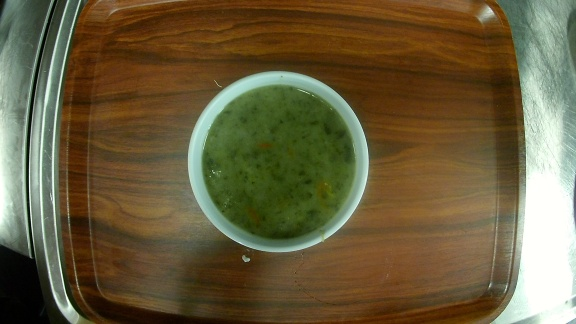brokolicorba: (186, 70, 371, 253)
